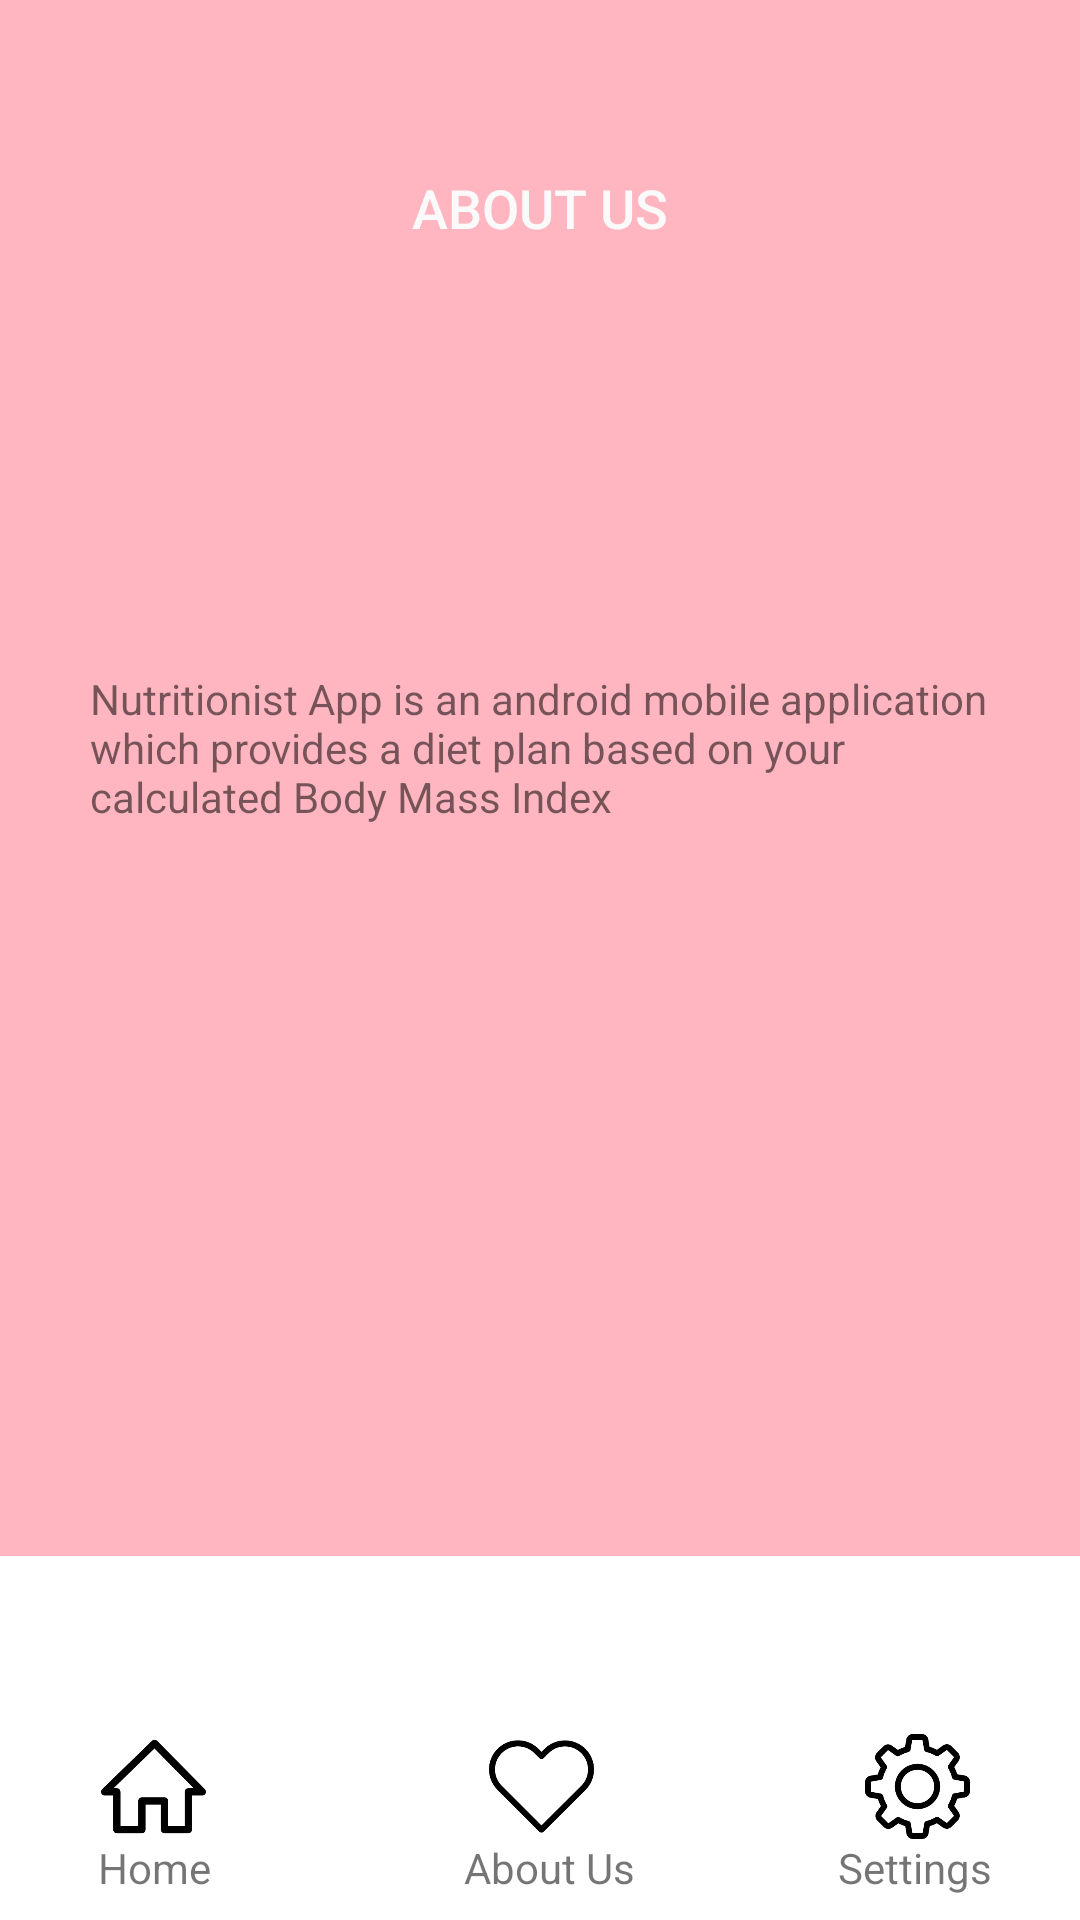

Screen size 1080x1920. Icon name, then its center in pixels as (x,y):
heart: (541,1786)
